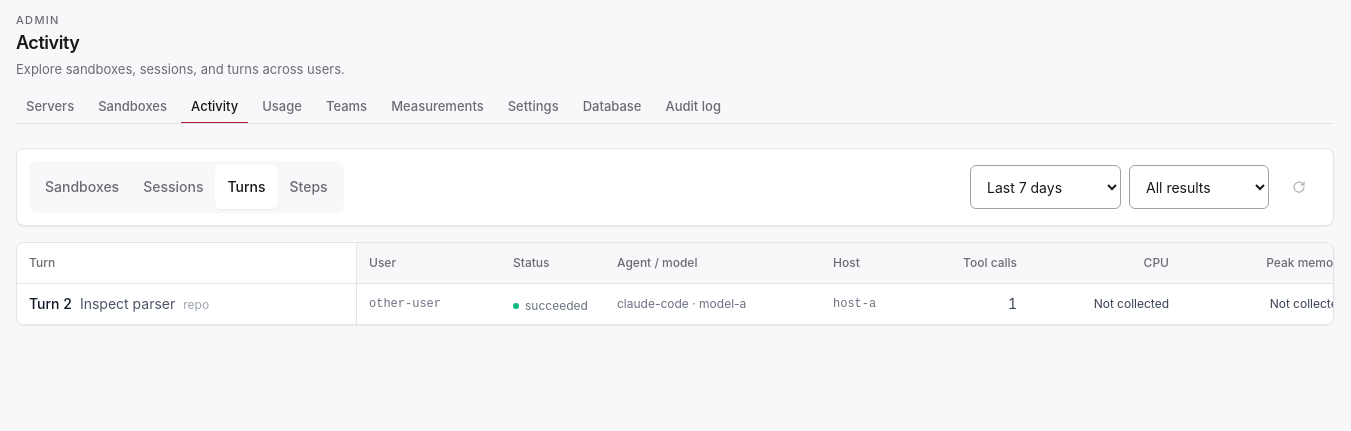
turn level › keeps the queued filter and badge across pages
Expected: the link titled "job-1" is shown, [29,294,72,314]
Select "queued" in the 2nd dropdown named "Turn result": (1199, 187) [1129,165,1269,209]
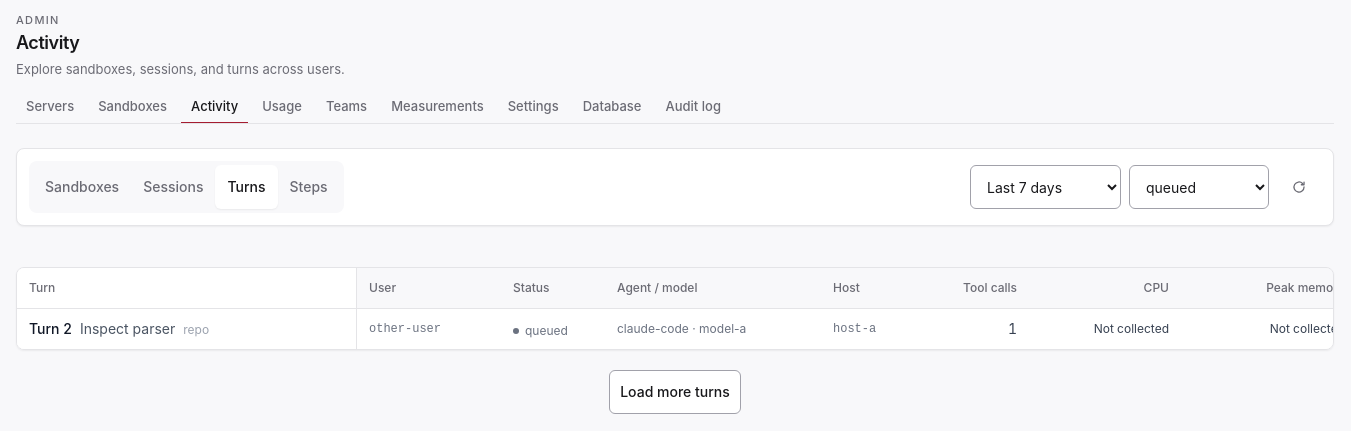
Click the button "Load more turns": (675, 392) [609,370,741,414]
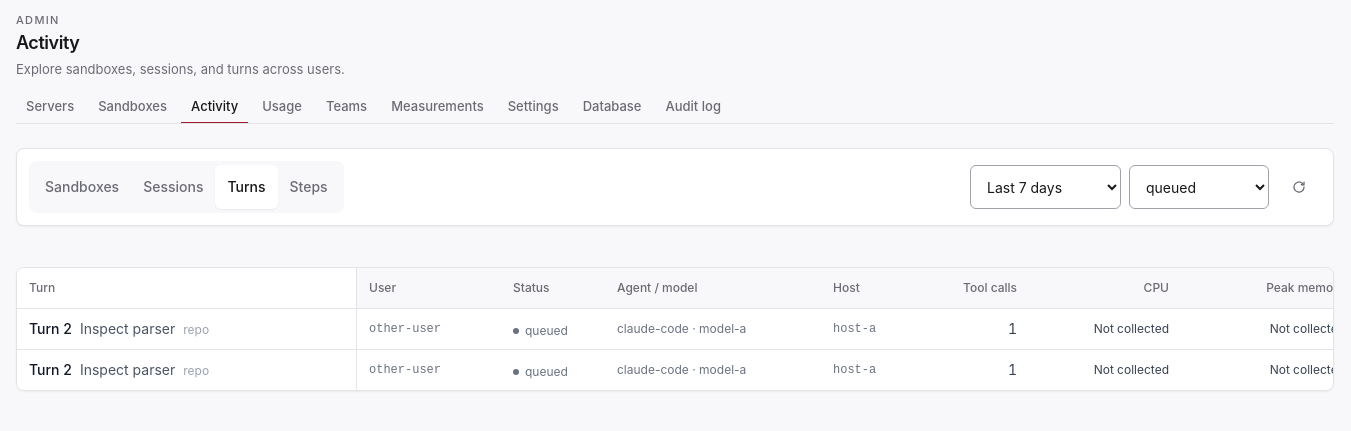
Expected: the 2nd link titled "job-2" is shown, [29,360,72,380]
Expected: the text "queued" is shown 2 times, [513,323,568,339]; [513,364,568,380]
